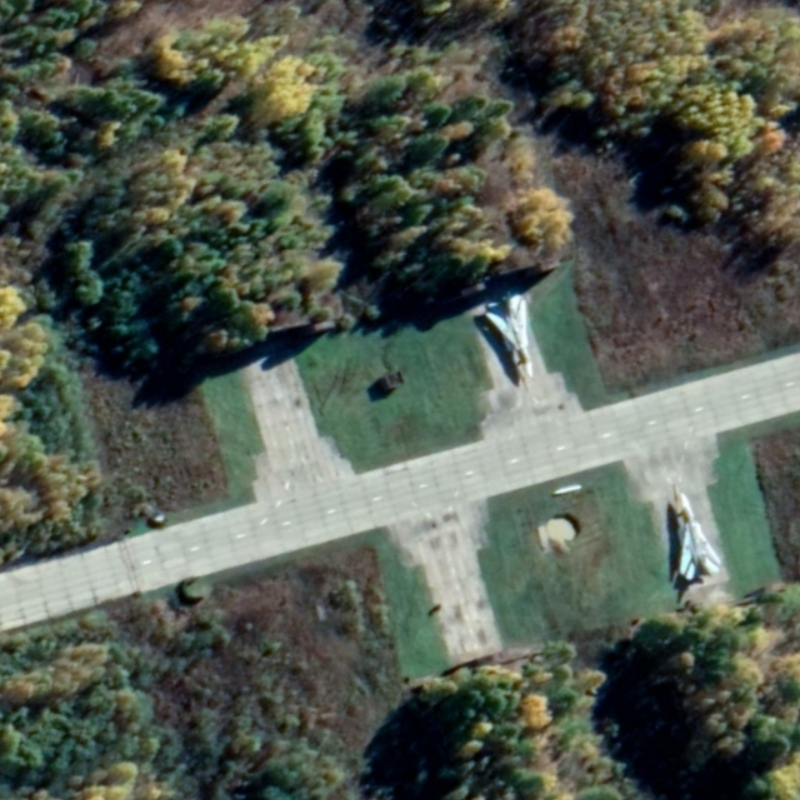A20: (483, 292, 537, 381), (675, 490, 722, 583)
